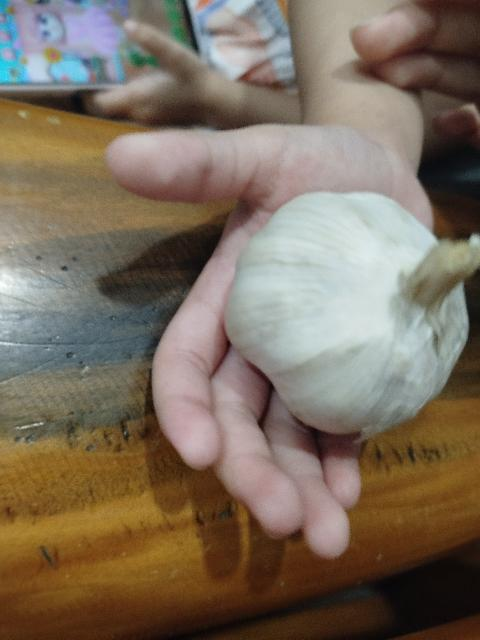garlic: (223, 190, 479, 444)
